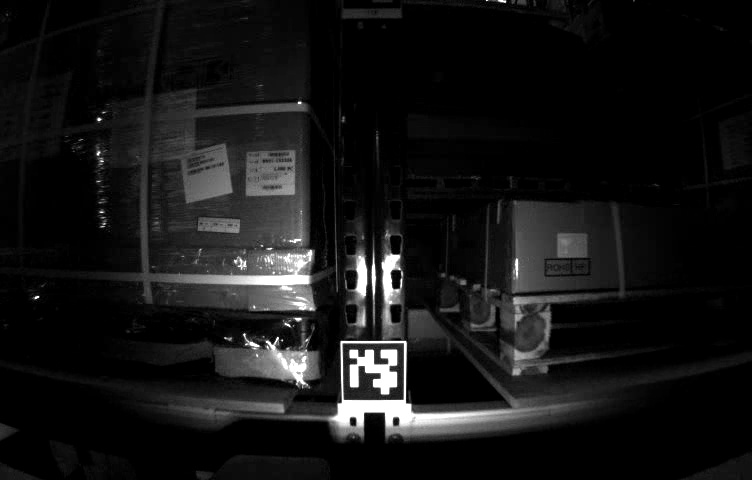True Barcode: (242, 149, 297, 196)
